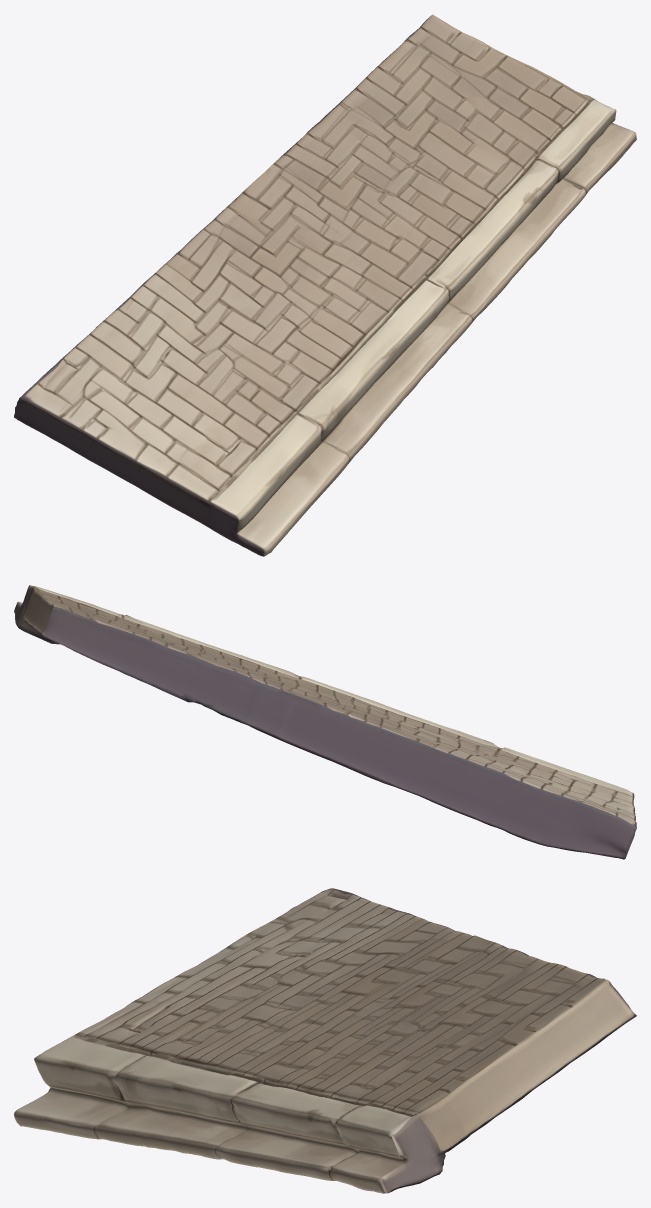
The model's file is tripo_convert_1ea7c5cf-e6b2-4760-8195-3678fbcfefb9.glb.
3 views of the same model, one above another, from view 1: azimuth 30°, elevation 25°; view 2: azimuth 150°, elevation 25°; view 3: azimuth 270°, elevation 25° (orthographic). The views are drawn at different scales.
Visible parts, largest first — view 1: tripo_node_1ea7c5cf-e6b2-4760-8195-3678fbcfefb9; view 2: tripo_node_1ea7c5cf-e6b2-4760-8195-3678fbcfefb9; view 3: tripo_node_1ea7c5cf-e6b2-4760-8195-3678fbcfefb9.
Part boxes in pixels (<box>): tripo_node_1ea7c5cf-e6b2-4760-8195-3678fbcfefb9: <box>14,14,636,556</box>; tripo_node_1ea7c5cf-e6b2-4760-8195-3678fbcfefb9: <box>14,585,636,859</box>; tripo_node_1ea7c5cf-e6b2-4760-8195-3678fbcfefb9: <box>14,888,636,1193</box>.
Bounding box in the file's own units: 1 × 0.4377 × 0.6168.
1 material, 1 textured.
